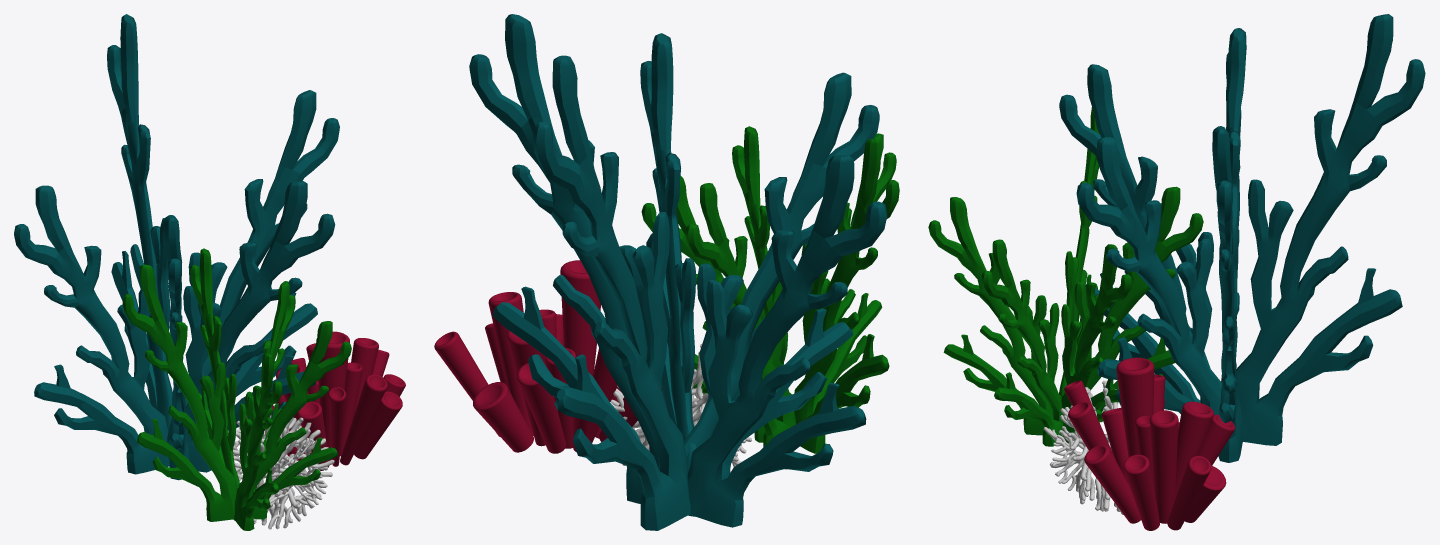
File: coral_2.obj
3 views of the same model, side by side, from view 1: azimuth 30°, elevation 25°; view 2: azimuth 150°, elevation 25°; view 3: azimuth 270°, elevation 25° (orthographic). The views are drawn at different scales.
Visible parts, largest first — view 1: pCylinder35_ParlakVersiyon_0.004; view 2: pCylinder35_ParlakVersiyon_0.004; view 3: pCylinder35_ParlakVersiyon_0.004.
Part boxes in pixels (x1,y1,x2,y2): pCylinder35_ParlakVersiyon_0.004: [14, 14, 405, 530]; pCylinder35_ParlakVersiyon_0.004: [434, 14, 899, 530]; pCylinder35_ParlakVersiyon_0.004: [928, 14, 1425, 530].
Bounding box in the file's own units: 2.13 × 2.42 × 2.27.
